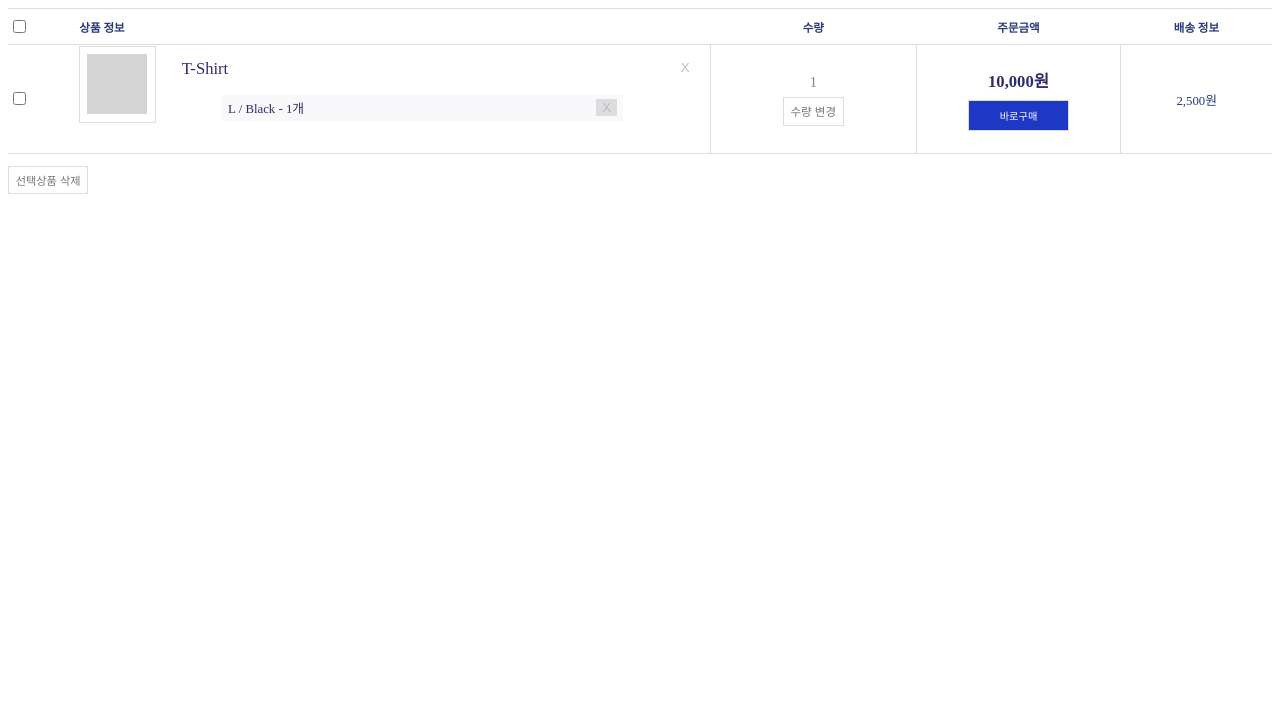
Test: CartItem › 수량 변경 버튼 › 수량 변경 버튼을 클릭했을 경우 › 수량을 변경할 수 있는 모달을 볼 수 있다
This screenshot has width=1280, height=720.
Click the button "수량 변경": (813, 111) 783,97 -> 844,126
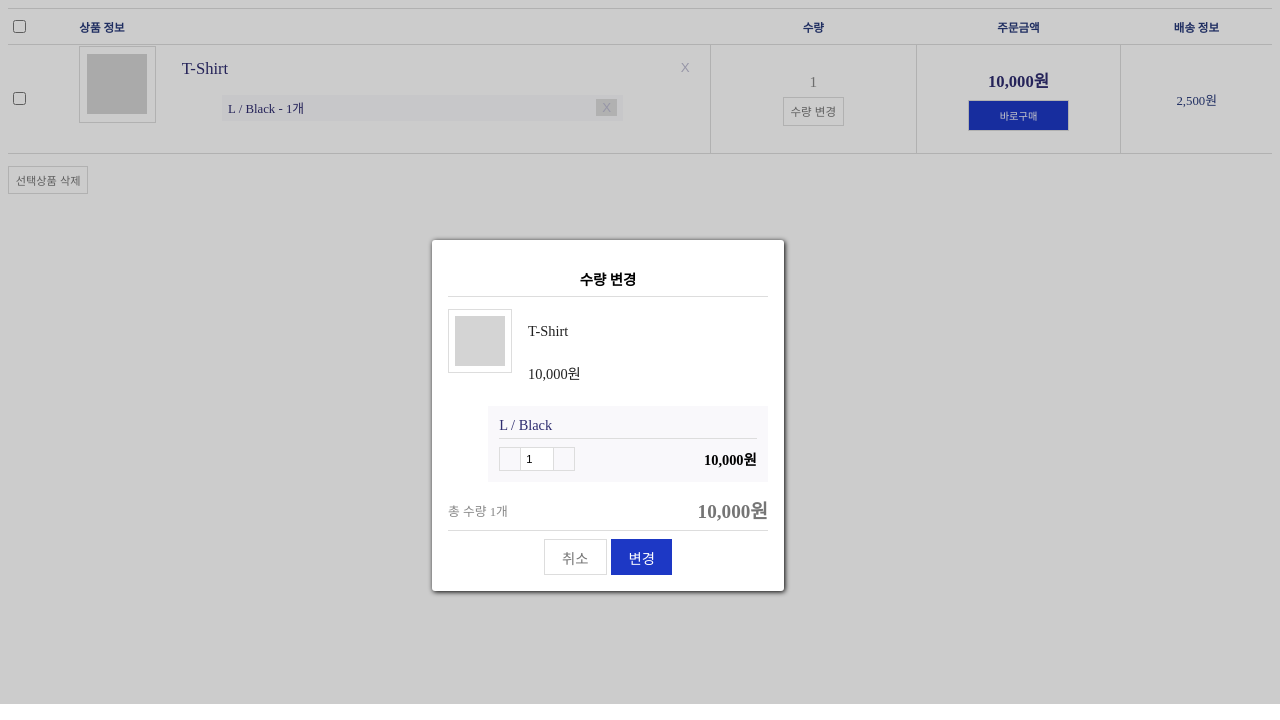
Expected: the heading "수량 변경" is shown, 448,268 -> 768,297
